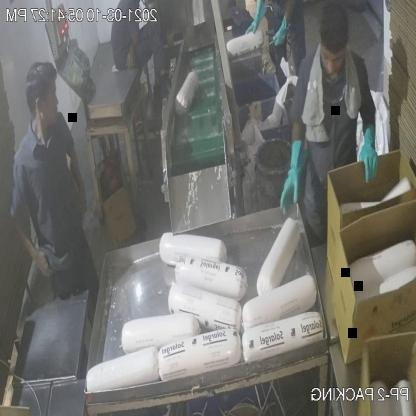glove: (272, 130, 316, 220), (356, 123, 380, 181), (242, 0, 269, 45), (274, 14, 290, 54)
no_glove: (6, 192, 51, 286), (63, 132, 91, 238), (122, 30, 140, 78)
